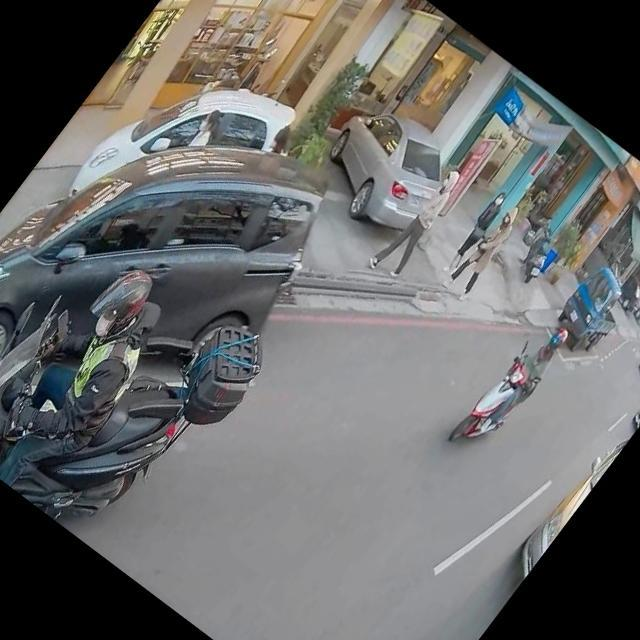person: (0, 241, 200, 510), (360, 154, 476, 288), (461, 314, 574, 446), (438, 195, 530, 302), (437, 188, 513, 280), (179, 100, 231, 158), (260, 114, 305, 164)
